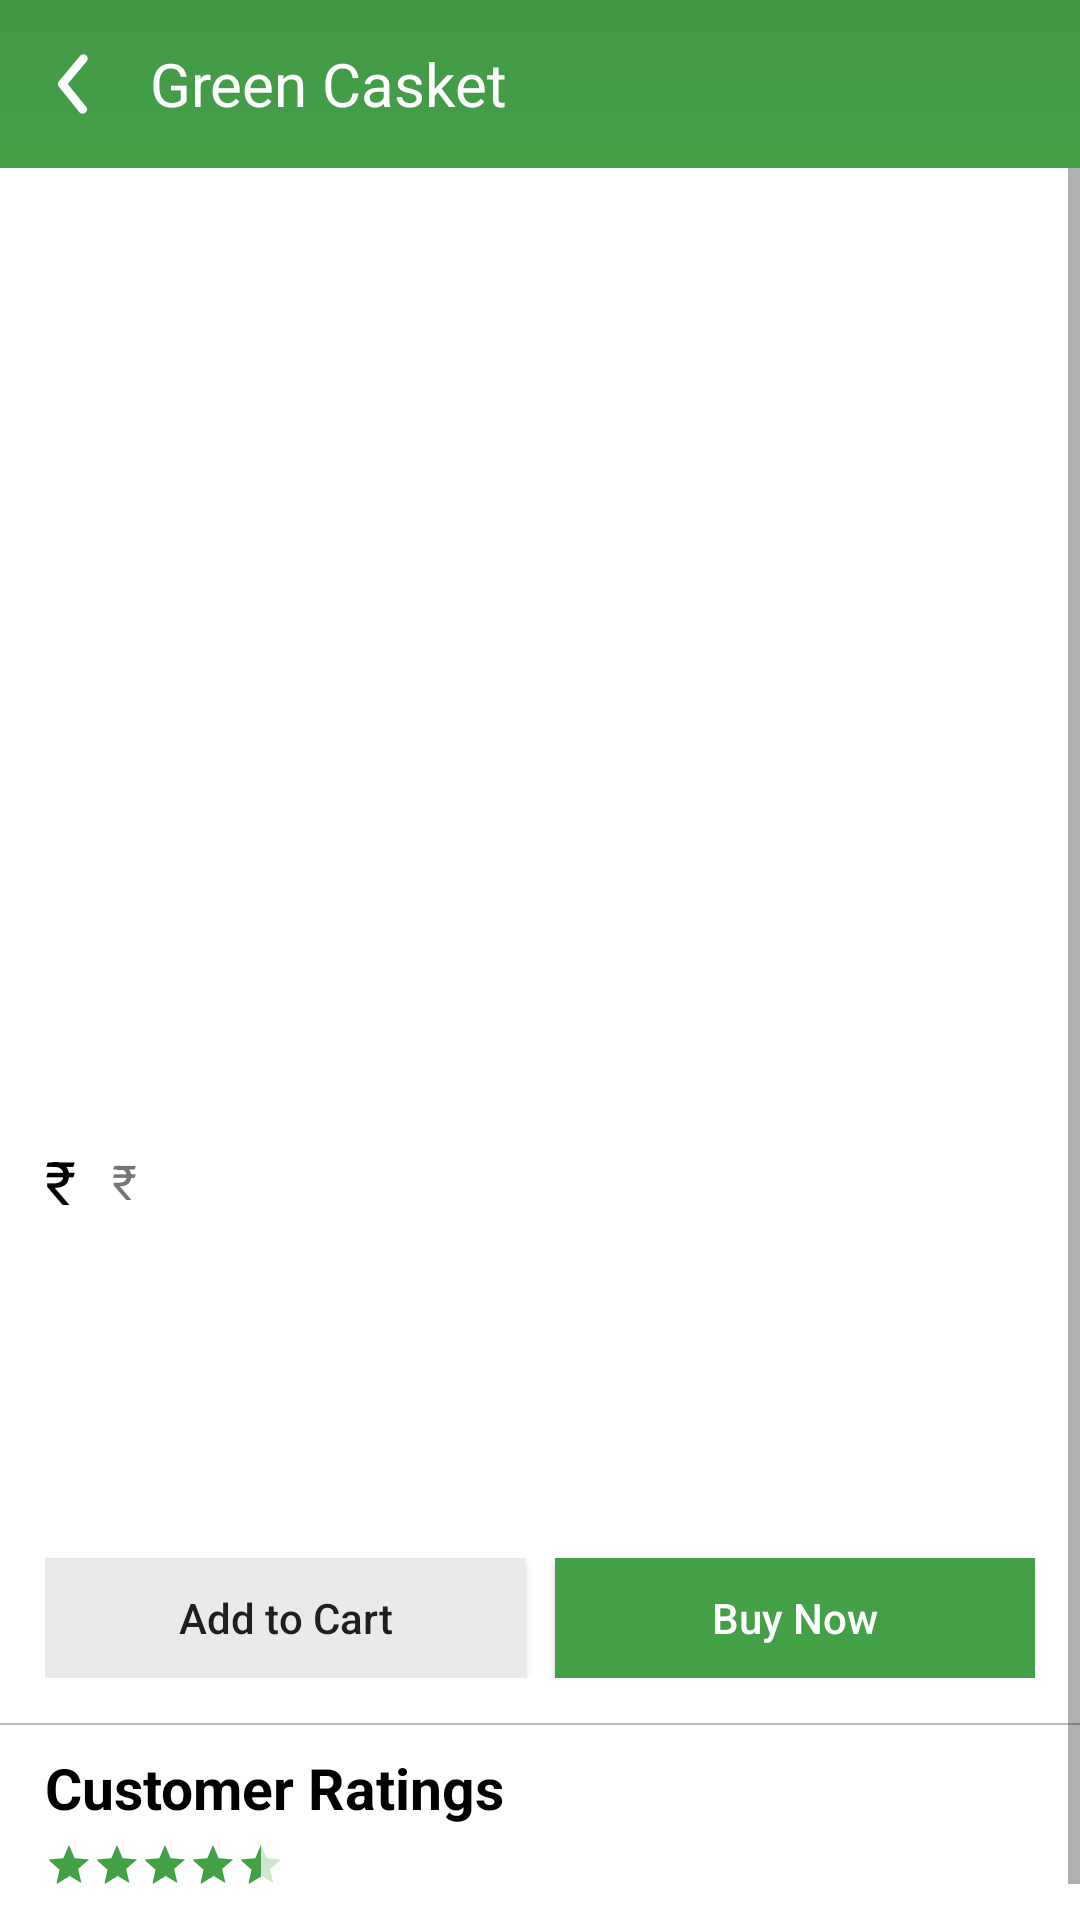

Named icons in this screenshot (1080 x 1920) and their centers, point (x, y):
back arrow: point (73, 84)
